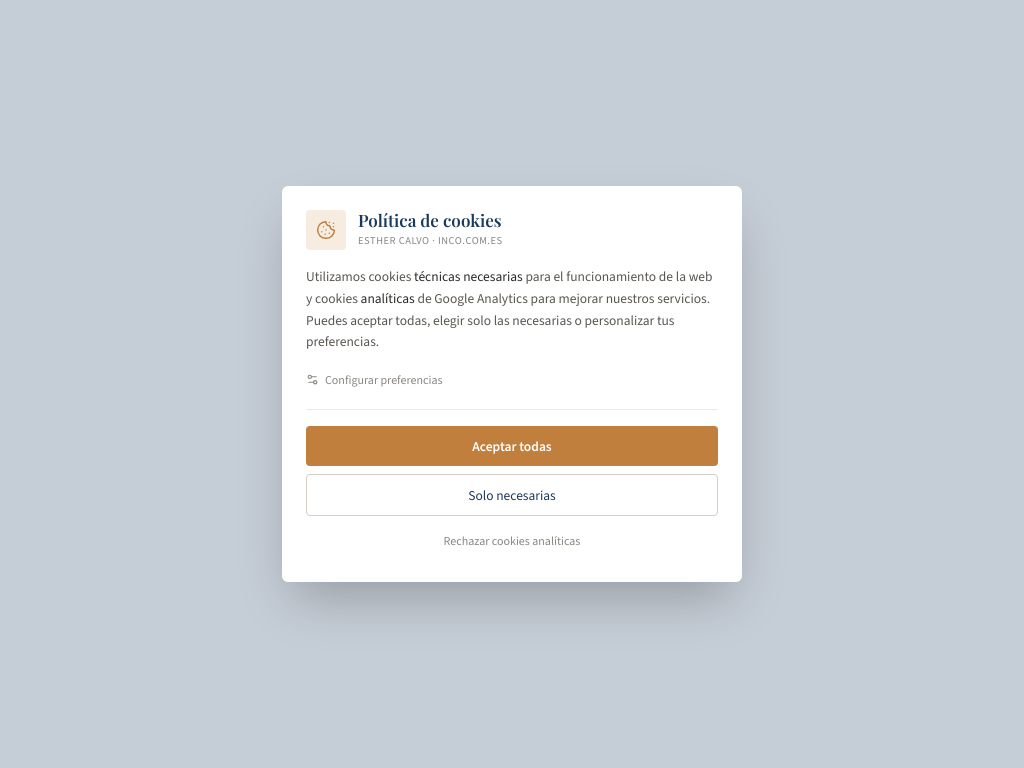
Test case: CookieConsent › "← Volver" in config view goes back to banner
Click the button "Configurar preferencias" at {"x": 374, "y": 380}, box [306,371,442,389]
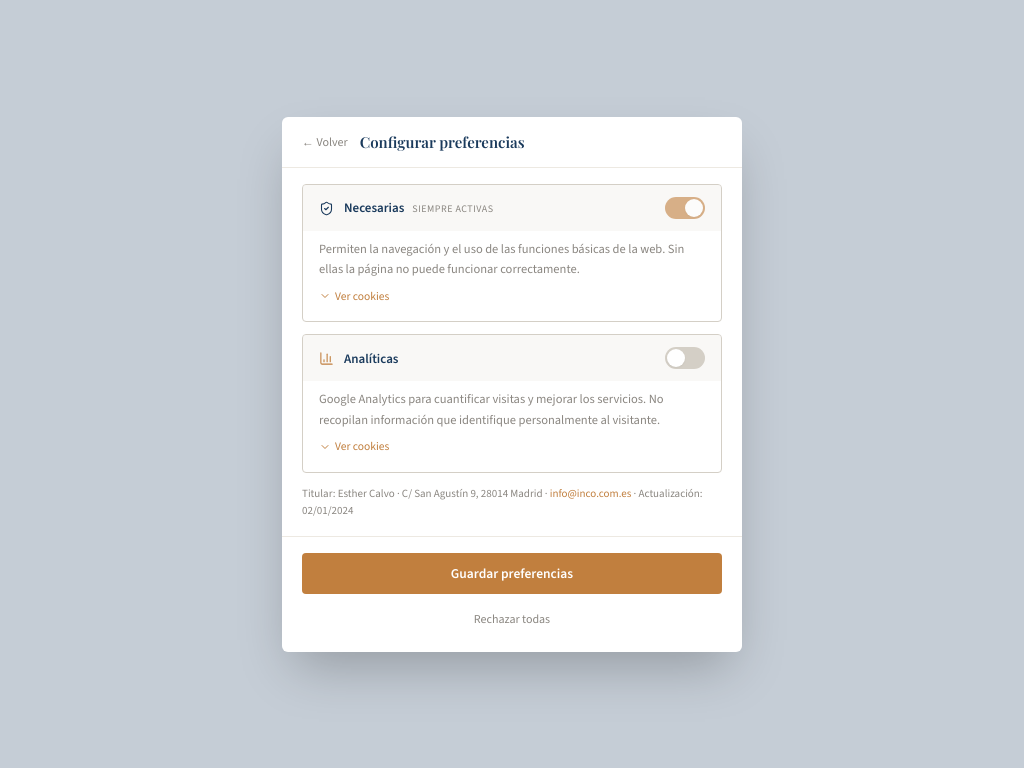
Click the button "← Volver" at {"x": 325, "y": 142}, box [302,133,348,151]
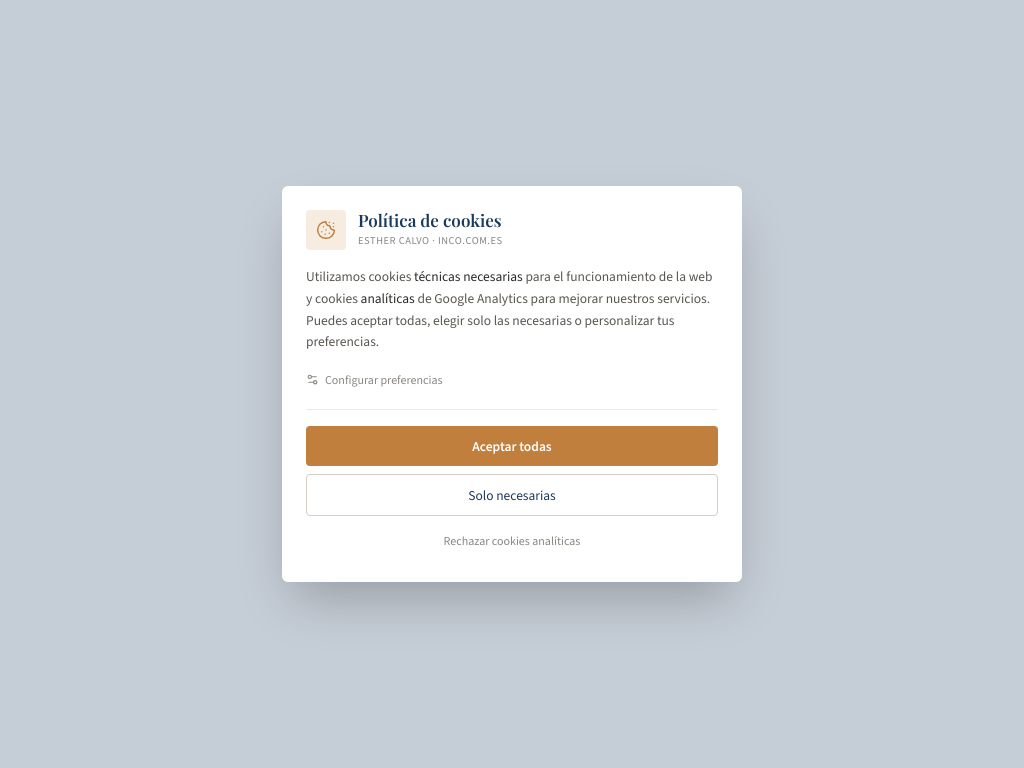
Now the heading "Política de cookies" is shown, box [358,210,503,231]
